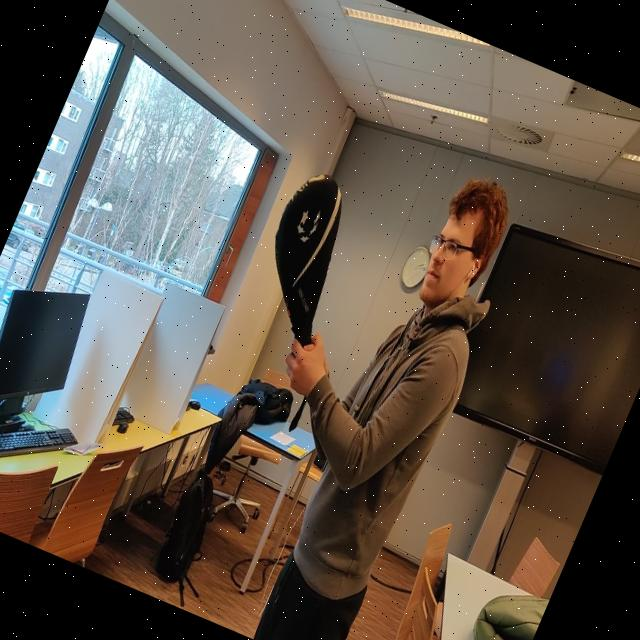paddle: (275, 174, 341, 348)
